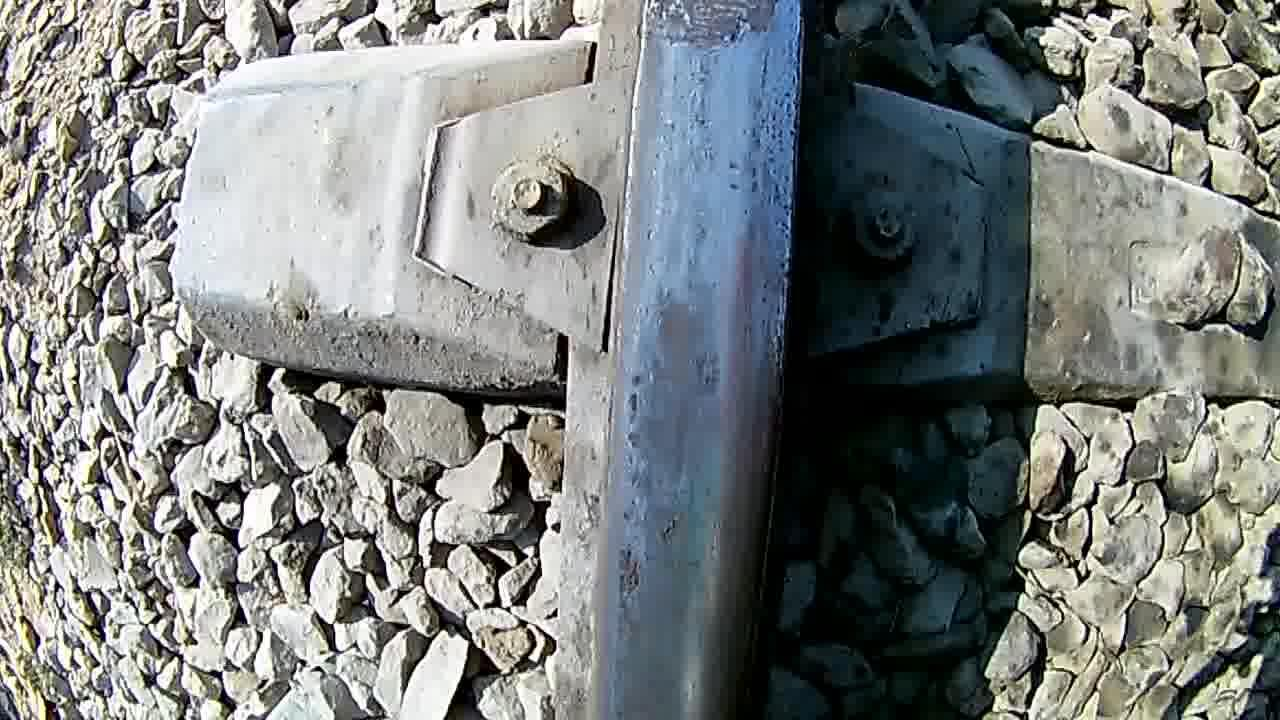crack: (606, 0, 804, 720)
